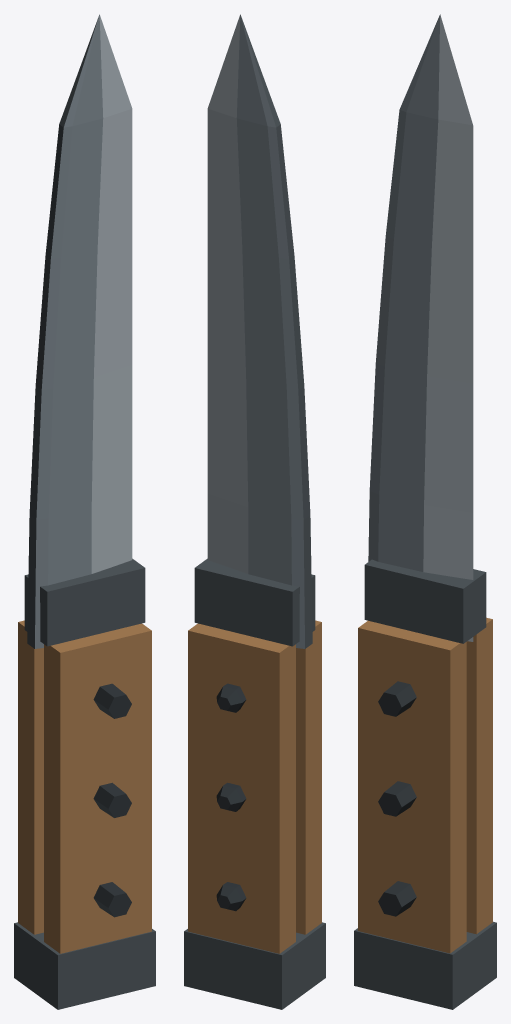
Rendered from mdvl_weapons_knife_01.glb.
3 renders of one model, left to right at view 1: azimuth 30°, elevation 25°; view 2: azimuth 150°, elevation 25°; view 3: azimuth 330°, elevation 25°, orthographic.
Parts seen in each view (by area): view 1: mdvl_weapons_knife_01; view 2: mdvl_weapons_knife_01; view 3: mdvl_weapons_knife_01.
Part boxes in pixels (left/top/right/bottom): mdvl_weapons_knife_01: left=14, top=14, right=155, bottom=1009; mdvl_weapons_knife_01: left=184, top=14, right=325, bottom=1009; mdvl_weapons_knife_01: left=354, top=14, right=496, bottom=1009.
Bounding box in the file's own units: 0.0315 × 0.282 × 0.0352.
Materials: 1 (1 with a texture image).
